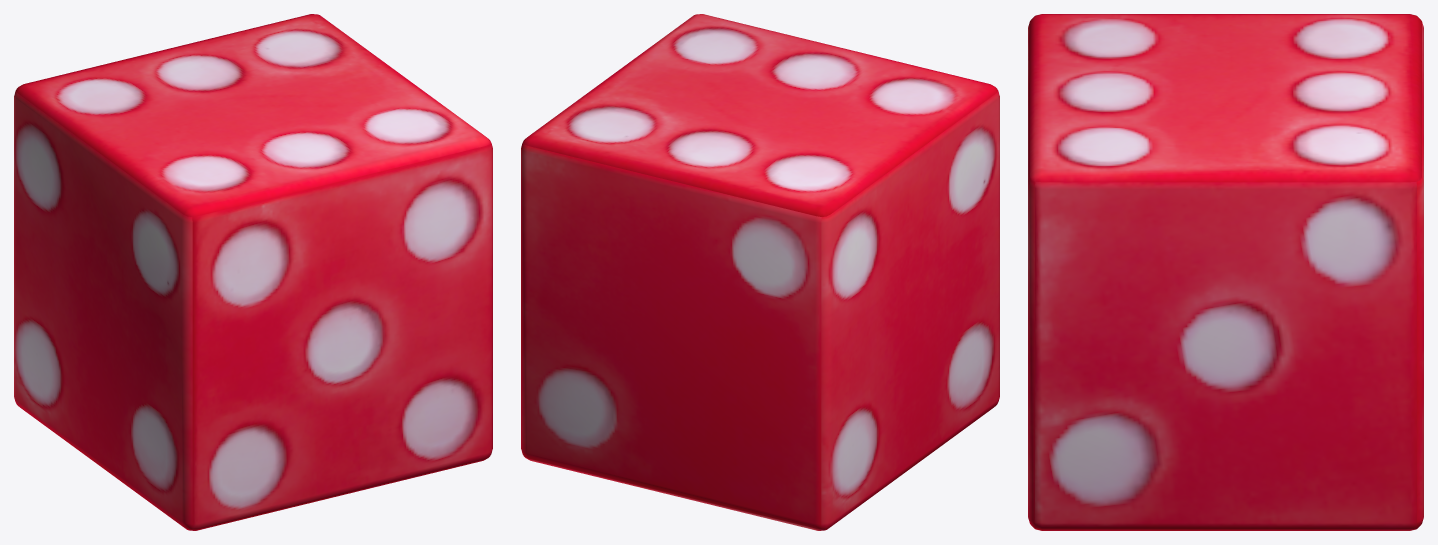
The model's file is alterd6.glb.
3 views of the same model, side by side, from view 1: azimuth 30°, elevation 25°; view 2: azimuth 150°, elevation 25°; view 3: azimuth 270°, elevation 25° (orthographic). The views are drawn at different scales.
Parts seen in each view (by area): view 1: Cube; view 2: Cube; view 3: Cube.
Part boxes in pixels (left/top/right/bottom): Cube: left=14, top=14, right=492, bottom=530; Cube: left=521, top=14, right=999, bottom=530; Cube: left=1028, top=14, right=1423, bottom=530.
Bounding box in the file's own units: 2 × 2 × 2.
Materials: 1 (1 with a texture image).
